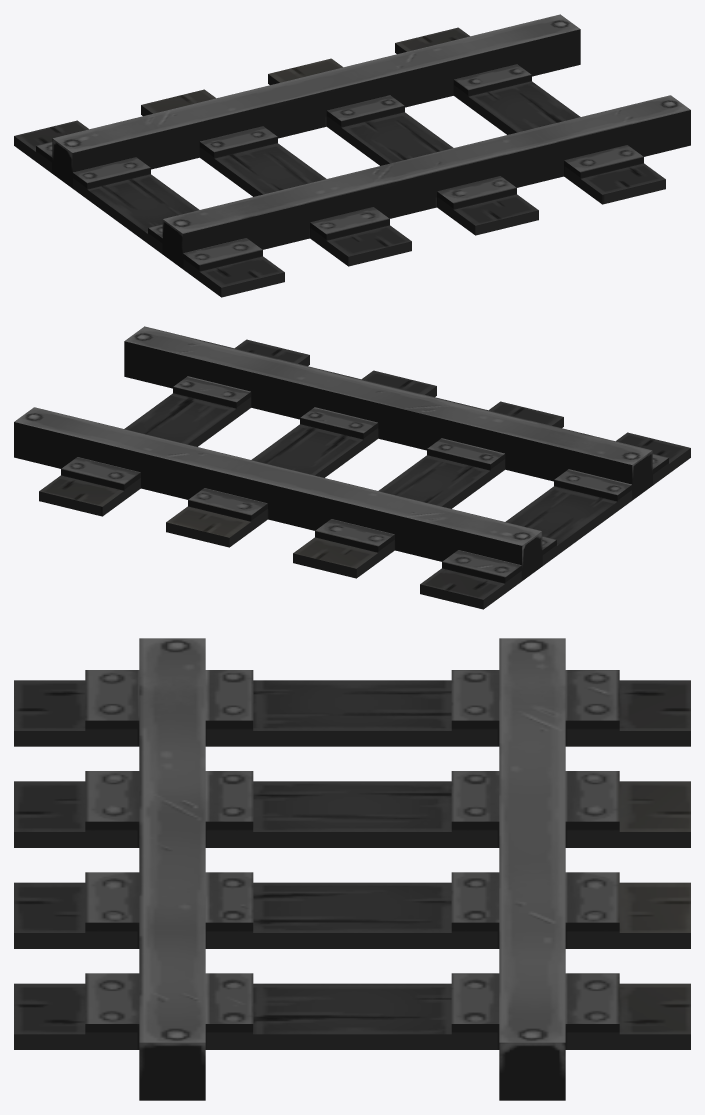
The model's file is rail.fbx.
3 renders of one model, top to bottom at view 1: azimuth 30°, elevation 25°; view 2: azimuth 150°, elevation 25°; view 3: azimuth 270°, elevation 25°, orthographic. The views are drawn at different scales.
Parts seen in each view (by area): view 1: rail; view 2: rail; view 3: rail.
Boxes of the visible parts, x1=… form: rail: x1=14, y1=14, x2=690, y2=297; rail: x1=14, y1=326, x2=690, y2=609; rail: x1=14, y1=638, x2=690, y2=1100.
Bounding box in the file's own units: 178 × 11.88 × 126.
